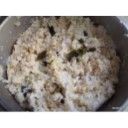venpongal: (13, 18, 115, 111)
